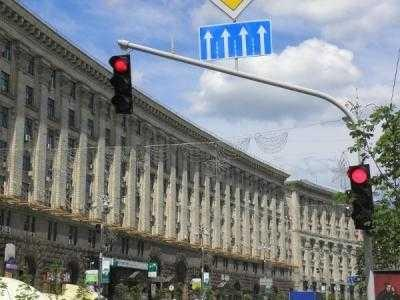red: (348, 164, 373, 230), (111, 53, 130, 112), (350, 164, 373, 187), (109, 55, 128, 74)
